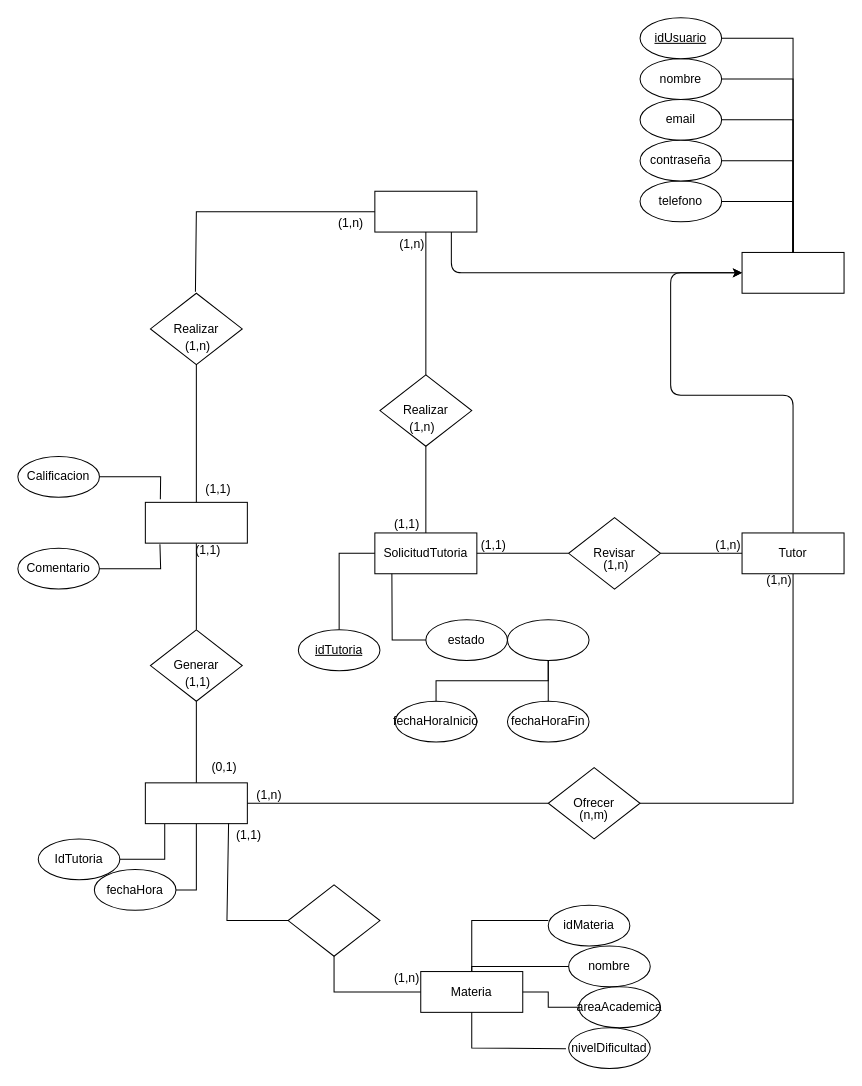
The diagram is 862 pixels wide and 1086 high, and some of its shapes have lost their labels. Here are the shapes that lost their labels. From the top down, the centre of each, then its label:
At (425,211): "Estudiante".
At (792,272): "Usuario".
At (195,522): "Evaluacion".
At (547,639): "horario".
At (195,803): "Tutoria".
At (333,920): "Tiene".
